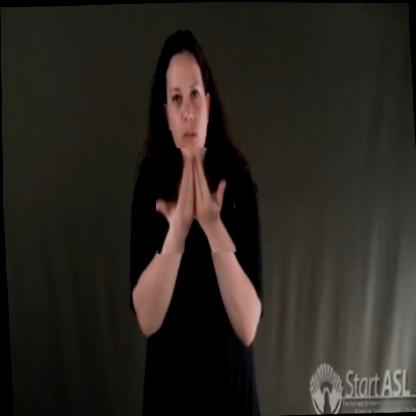HowAreYou: (153, 146, 235, 254)
